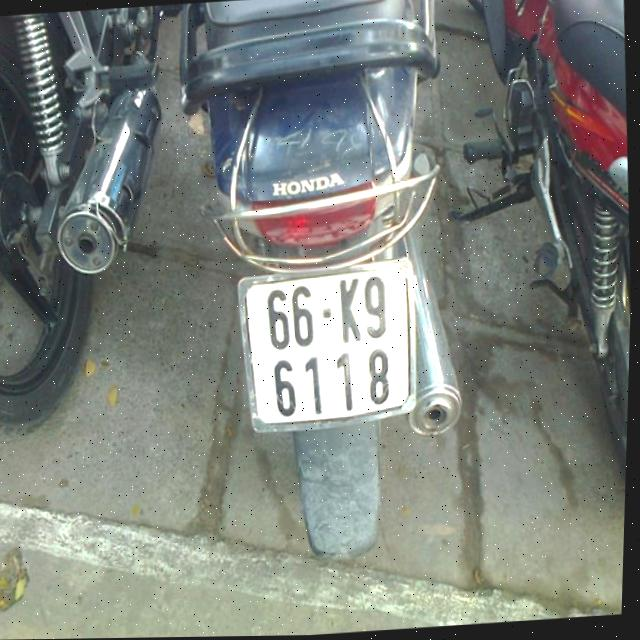motorcycle: (160, 0, 486, 566), (432, 0, 640, 524), (0, 4, 196, 446)
plate: (228, 258, 423, 434)
